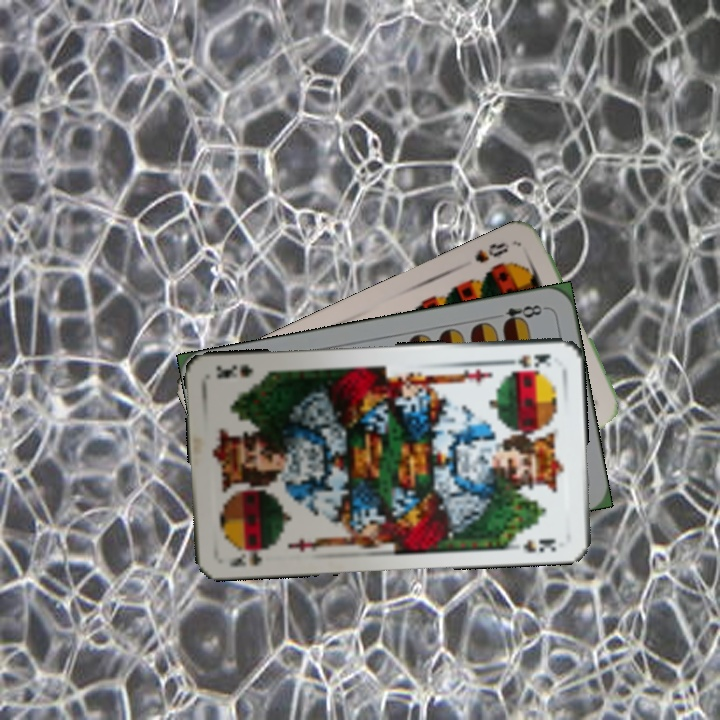E8: (499, 301, 549, 329)
S8: (471, 238, 512, 266)
SK: (225, 542, 272, 570), (499, 349, 553, 371)
